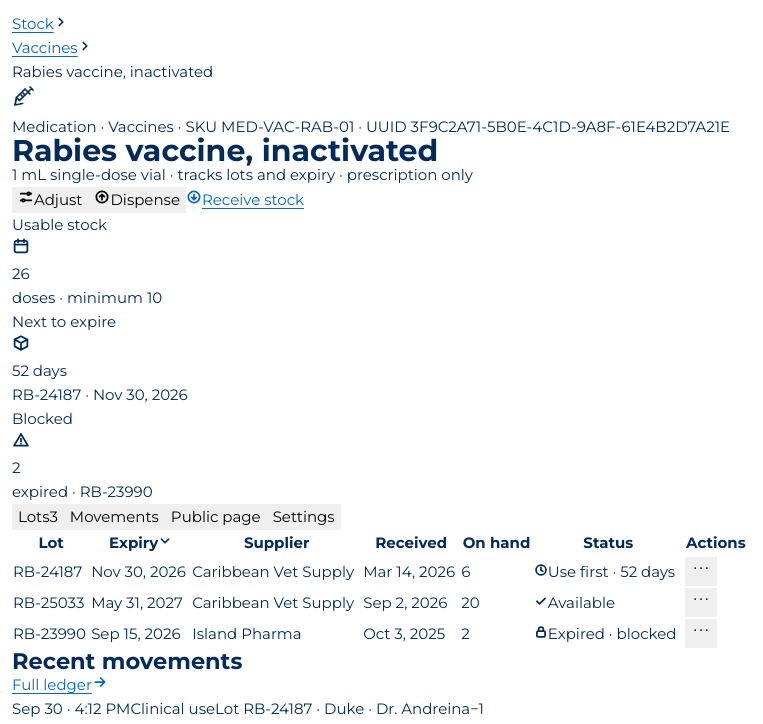
it: ProductLots tabs and dialog › shows the movements and the public page tabs
What coordinates should you click on to do the following:
click the tab "Movements"
I would click on:
 (114, 517)
Its box is left=64, top=504, right=165, bottom=530.
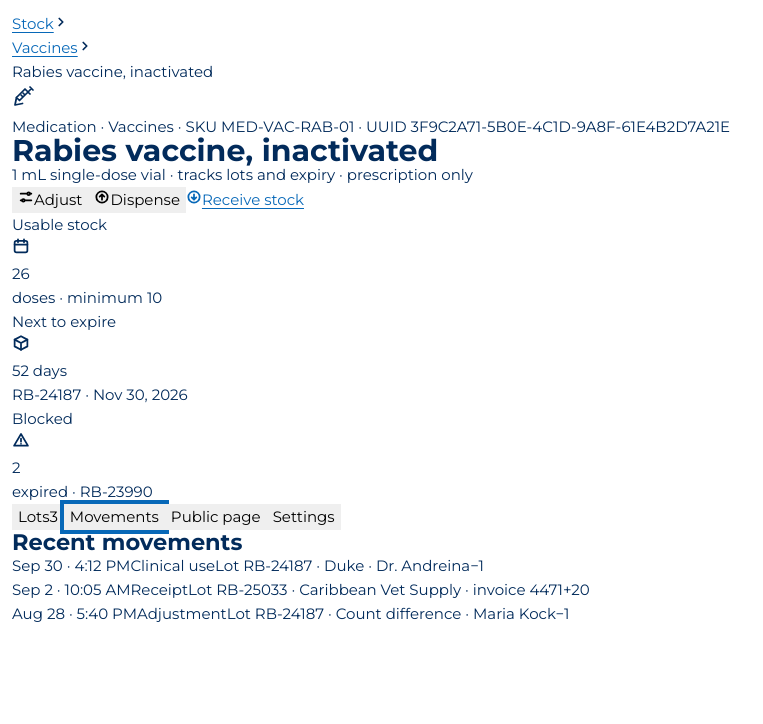
Expected: the heading "Recent movements" is shown, left=12, top=528, right=242, bottom=556
What coordinates should you click on to do the following:
click the tab "Public page"
I would click on:
 (216, 517)
Its box is left=165, top=504, right=267, bottom=530.
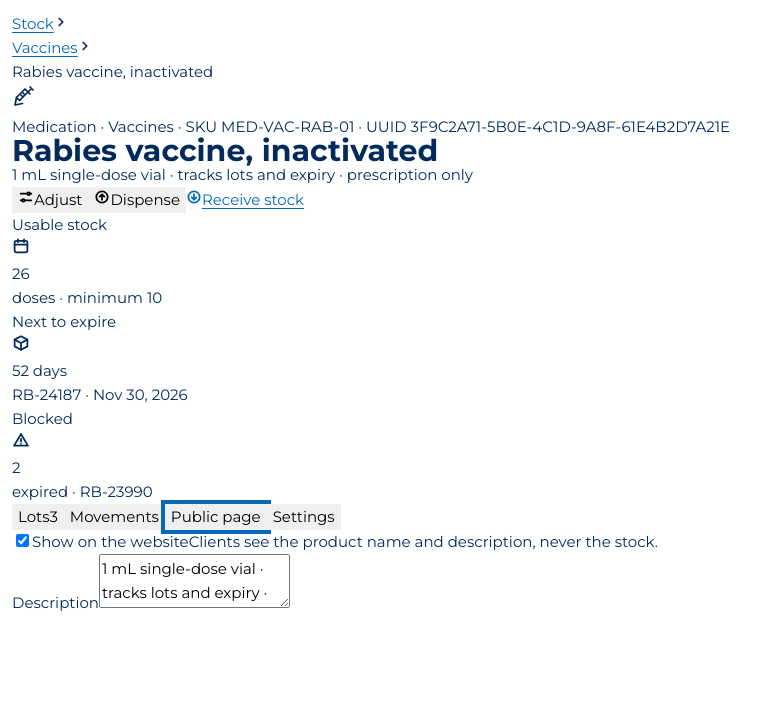
Now the switch labelled "Show on the website" is checked, box left=16, top=534, right=29, bottom=547
